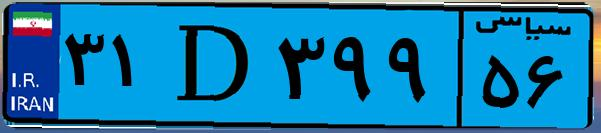1: (110, 28, 158, 98)
3: (270, 28, 330, 110), (57, 26, 110, 100)
5: (475, 38, 525, 113)
6: (525, 38, 570, 115)
9: (385, 28, 445, 110), (330, 28, 385, 110)
D: (158, 12, 270, 120)
